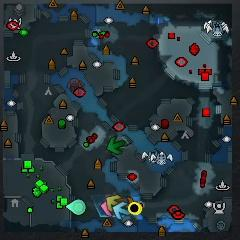p2: (65, 199, 87, 215)
p4Clone: (128, 202, 141, 215)
x1: (101, 202, 113, 216)
x2: (106, 195, 121, 211)
x3: (114, 203, 130, 220)
x4: (107, 136, 125, 154)
x5: (125, 196, 133, 210)
